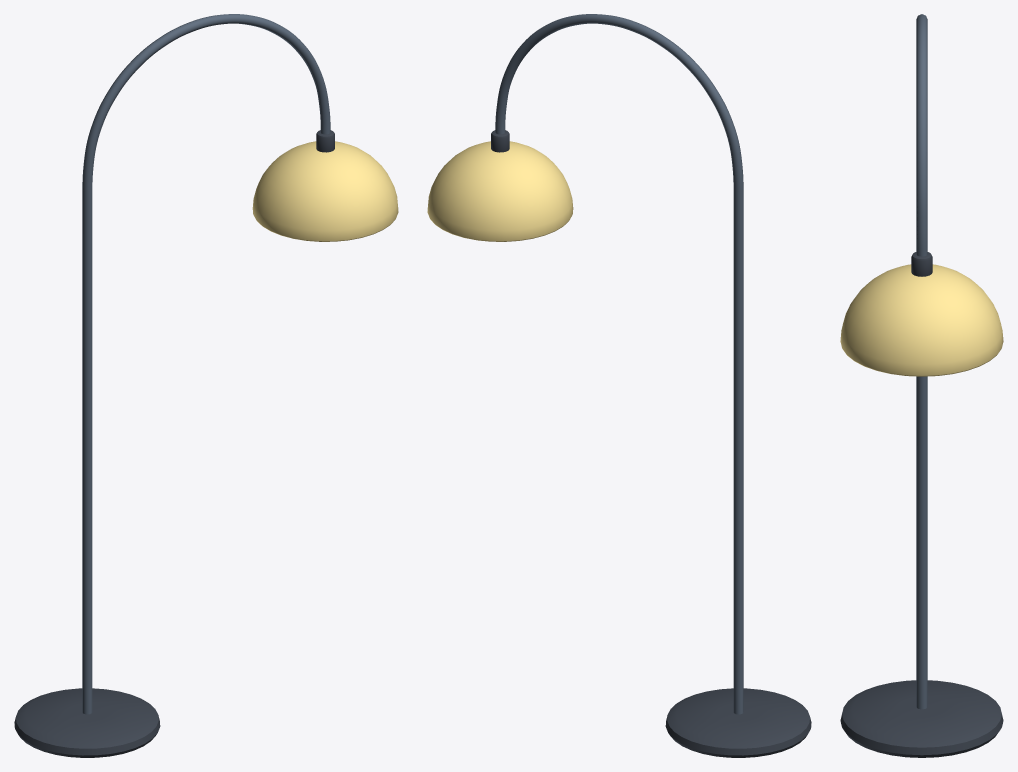
Rendered from luminaria_chao_arco.glb.
3 views of the same model, side by side, from view 1: azimuth 30°, elevation 25°; view 2: azimuth 150°, elevation 25°; view 3: azimuth 270°, elevation 25° (orthographic). The views are drawn at different scales.
Visible parts, largest first — view 1: luminaria_chao_arco; view 2: luminaria_chao_arco; view 3: luminaria_chao_arco.
Part boxes in pixels (x1,y1,x2,y2): luminaria_chao_arco: [14, 14, 398, 757]; luminaria_chao_arco: [427, 14, 811, 757]; luminaria_chao_arco: [840, 14, 1003, 757].
Bounding box in the file's own units: 0.98 × 1.75 × 0.34.
Materials: 2 (1 with a texture image).
